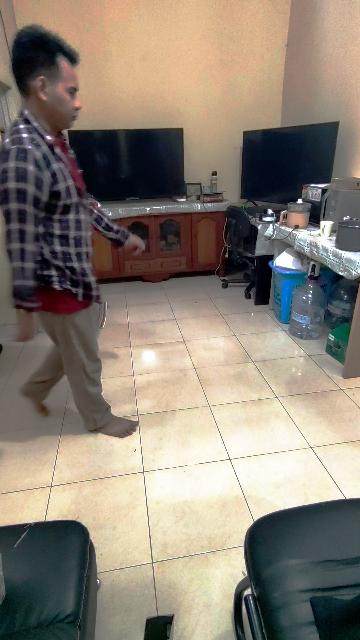berjalan: (1, 26, 138, 446)
